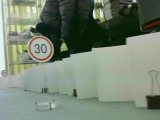speed_30: (25, 35, 55, 63)
